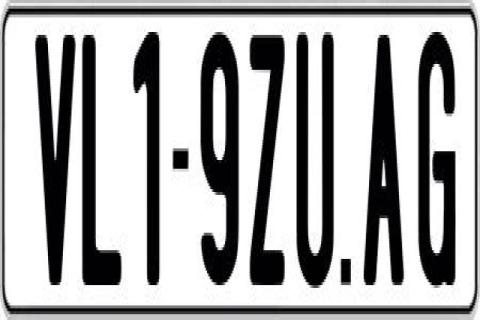0: (199, 29, 243, 291), (131, 23, 159, 280)
A: (363, 32, 406, 291)
G: (417, 23, 454, 285)
L: (80, 32, 124, 288)
U: (293, 23, 335, 291)
V: (33, 29, 76, 294)
Z: (249, 32, 287, 282)
